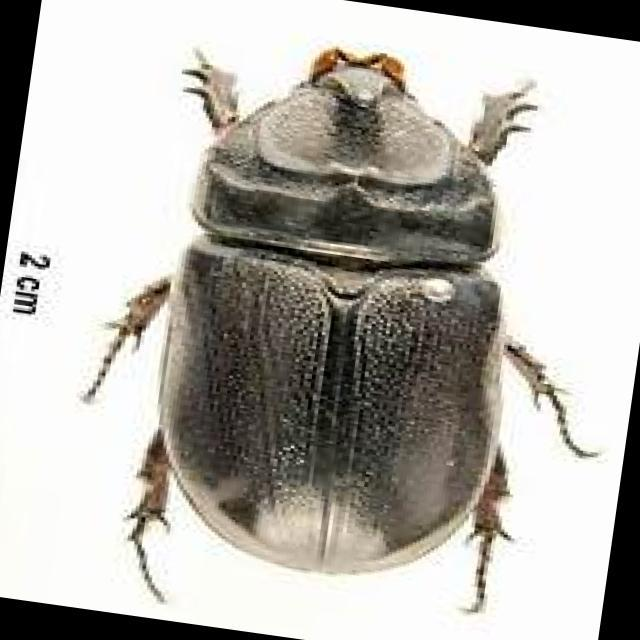Rhino-beetle: (79, 50, 555, 572)
